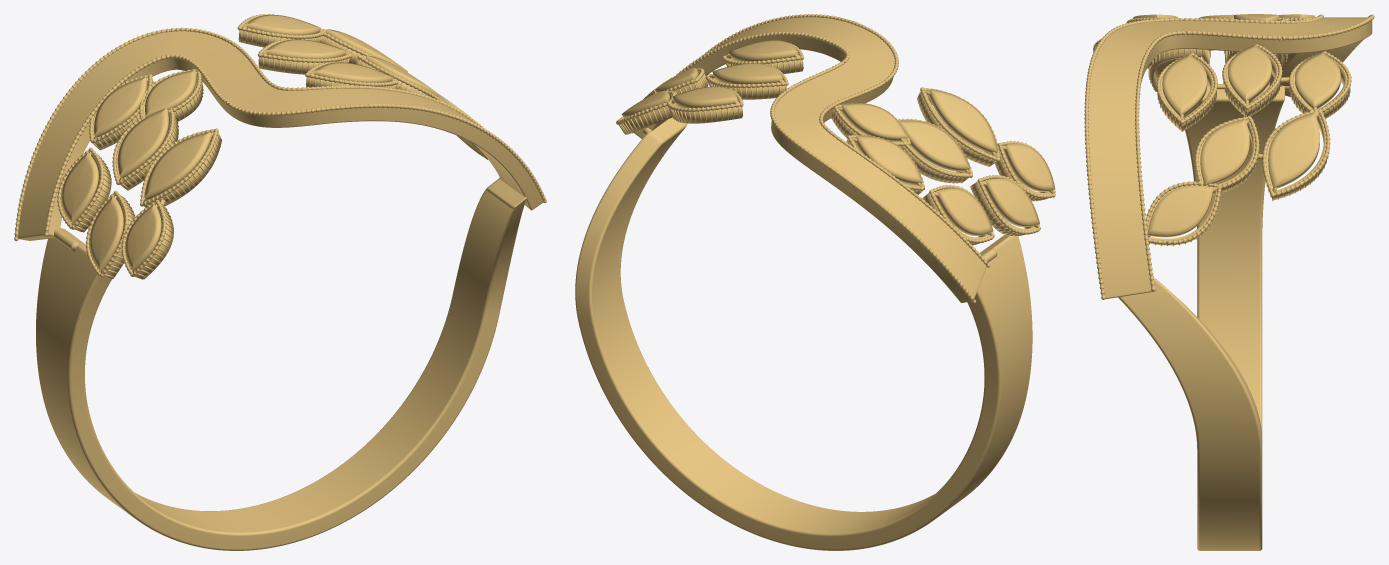
3 views of the same model, side by side, from view 1: azimuth 30°, elevation 25°; view 2: azimuth 150°, elevation 25°; view 3: azimuth 270°, elevation 25° (orthographic). The views are drawn at different scales.
Parts seen in each view (by area): view 1: Complete tapered comfort shank | reverse inferred, Broad continuous S-shaped ribbon, Milgrain | individual rounded gold beads, Leaf field beside S 6 raised convex polished platelet, Leaf field beside S 4 raised convex polished platelet, Leaf field beside S 2 raised convex polished platelet, Leaf field beside S 1 raised convex polished platelet, Leaf field beside S 3 raised convex polished platelet, Leaf field beside S 7 raised convex polished platelet, Leaf field beside S 5 raised convex polished platelet, Broad continuous S-shaped ribbon rolled border 1, Leaf field beside S 10 raised convex polished platelet (+6 smaller); view 2: Complete tapered comfort shank | reverse inferred, Broad continuous S-shaped ribbon, Milgrain | individual rounded gold beads, Leaf field beside S 6 raised convex polished platelet, Leaf field beside S 4 raised convex polished platelet, Leaf field beside S 1 raised convex polished platelet, Leaf field beside S 2 raised convex polished platelet, Leaf field beside S 3 raised convex polished platelet, Leaf field beside S 5 raised convex polished platelet, Leaf field beside S 7 raised convex polished platelet, Leaf field beside S 10 raised convex polished platelet, Leaf field beside S 12 raised convex polished platelet (+6 smaller); view 3: Complete tapered comfort shank | reverse inferred, Broad continuous S-shaped ribbon, Milgrain | individual rounded gold beads, Leaf field beside S 9 raised convex polished platelet, Leaf field beside S 13 raised convex polished platelet, Leaf field beside S 11 raised convex polished platelet, Leaf field beside S 12 raised convex polished platelet, Leaf field beside S 8 raised convex polished platelet, Leaf field beside S 10 raised convex polished platelet, Broad continuous S-shaped ribbon rolled border 1, Broad continuous S-shaped ribbon rolled border 2, Leaf field beside S 12 open marquise gallery (+7 smaller).
Part boxes in pixels (box(x1,y1,x2,y2)): Complete tapered comfort shank | reverse inferred: box(36, 178, 526, 550); Broad continuous S-shaped ribbon: box(17, 31, 542, 240); Milgrain | individual rounded gold beads: box(14, 14, 546, 277); Leaf field beside S 6 raised convex polished platelet: box(144, 132, 211, 199); Leaf field beside S 4 raised convex polished platelet: box(117, 108, 168, 177); Leaf field beside S 2 raised convex polished platelet: box(94, 77, 147, 137); Leaf field beside S 1 raised convex polished platelet: box(61, 152, 98, 222); Leaf field beside S 3 raised convex polished platelet: box(89, 196, 123, 270); Leaf field beside S 7 raised convex polished platelet: box(125, 204, 161, 270); Leaf field beside S 5 raised convex polished platelet: box(145, 70, 196, 116); Broad continuous S-shaped ribbon rolled border 1: box(45, 54, 546, 232); Leaf field beside S 10 raised convex polished platelet: box(266, 39, 346, 59); Complete tapered comfort shank | reverse inferred: box(575, 117, 1032, 550); Broad continuous S-shaped ribbon: box(634, 17, 986, 302); Milgrain | individual rounded gold beads: box(616, 14, 1055, 303); Leaf field beside S 6 raised convex polished platelet: box(928, 89, 997, 154); Leaf field beside S 4 raised convex polished platelet: box(898, 120, 970, 171); Leaf field beside S 1 raised convex polished platelet: box(936, 188, 993, 235); Leaf field beside S 2 raised convex polished platelet: box(855, 135, 922, 185); Leaf field beside S 3 raised convex polished platelet: box(984, 178, 1039, 227); Leaf field beside S 5 raised convex polished platelet: box(841, 103, 907, 141); Leaf field beside S 7 raised convex polished platelet: box(1004, 144, 1055, 191); Leaf field beside S 10 raised convex polished platelet: box(712, 63, 782, 84); Leaf field beside S 12 raised convex polished platelet: box(729, 40, 797, 61); Complete tapered comfort shank | reverse inferred: box(1118, 85, 1284, 550); Broad continuous S-shaped ribbon: box(1088, 17, 1372, 299); Milgrain | individual rounded gold beads: box(1084, 14, 1374, 299); Leaf field beside S 9 raised convex polished platelet: box(1268, 112, 1319, 188); Leaf field beside S 13 raised convex polished platelet: box(1147, 185, 1213, 237); Leaf field beside S 11 raised convex polished platelet: box(1200, 119, 1249, 185); Leaf field beside S 12 raised convex polished platelet: box(1162, 54, 1207, 115); Leaf field beside S 8 raised convex polished platelet: box(1295, 52, 1340, 109); Leaf field beside S 10 raised convex polished platelet: box(1228, 45, 1271, 102); Broad continuous S-shaped ribbon rolled border 1: box(1085, 18, 1320, 299); Broad continuous S-shaped ribbon rolled border 2: box(1135, 19, 1370, 291); Leaf field beside S 12 open marquise gallery: box(1159, 58, 1214, 130).
Bounding box in the file's own units: 0.0195 × 0.0202 × 0.0109.
